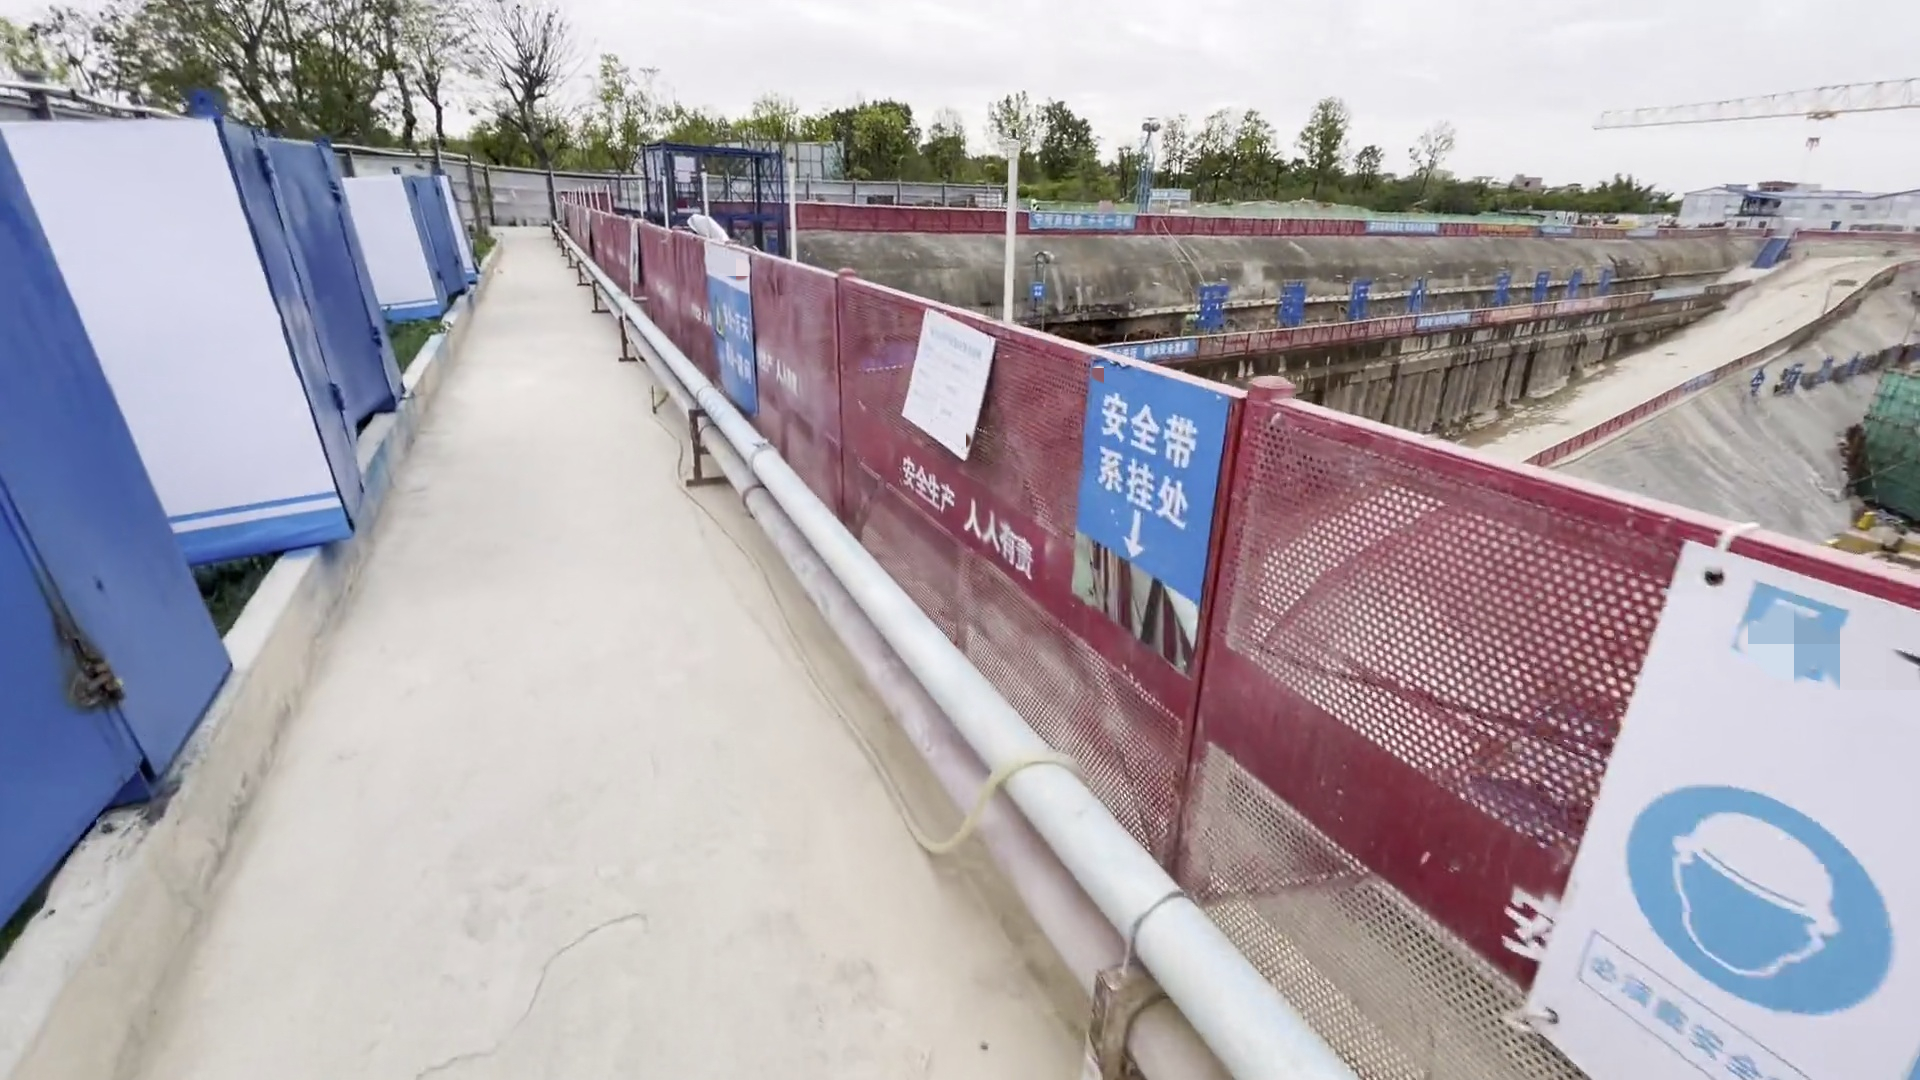fence: (618, 218, 1915, 1080)
